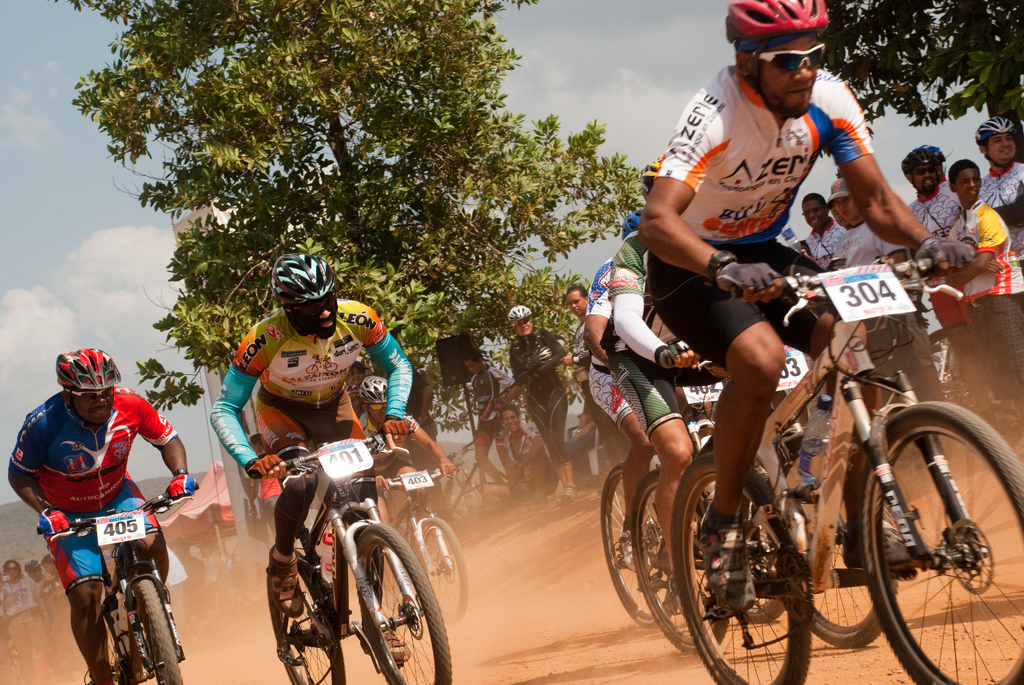Bike_toward: (229, 435, 490, 685)
